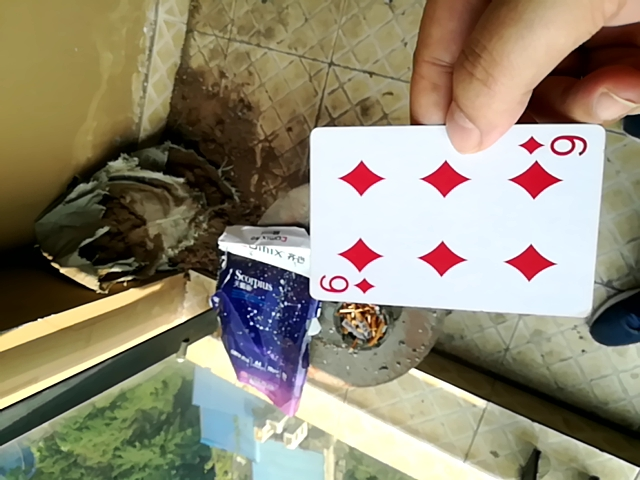fk 6: (300, 125, 605, 318)
